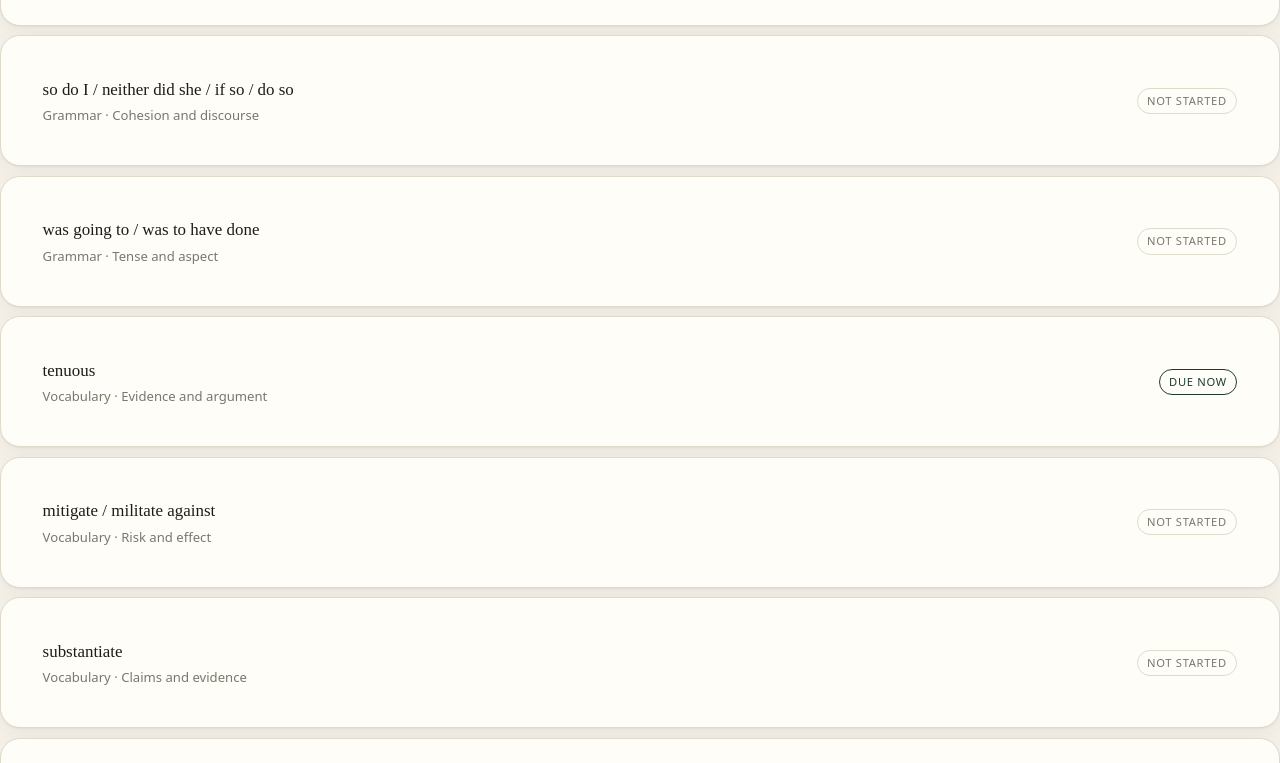
Test: LibraryScreen › hides Czech notes when the setting is off and shows review dates when practised
(page scrolled)
Click the button "tenuous Vocabulary · Evidence and argument Due now": x=69, y=370 x1=25 y1=341 x2=1255 y2=422
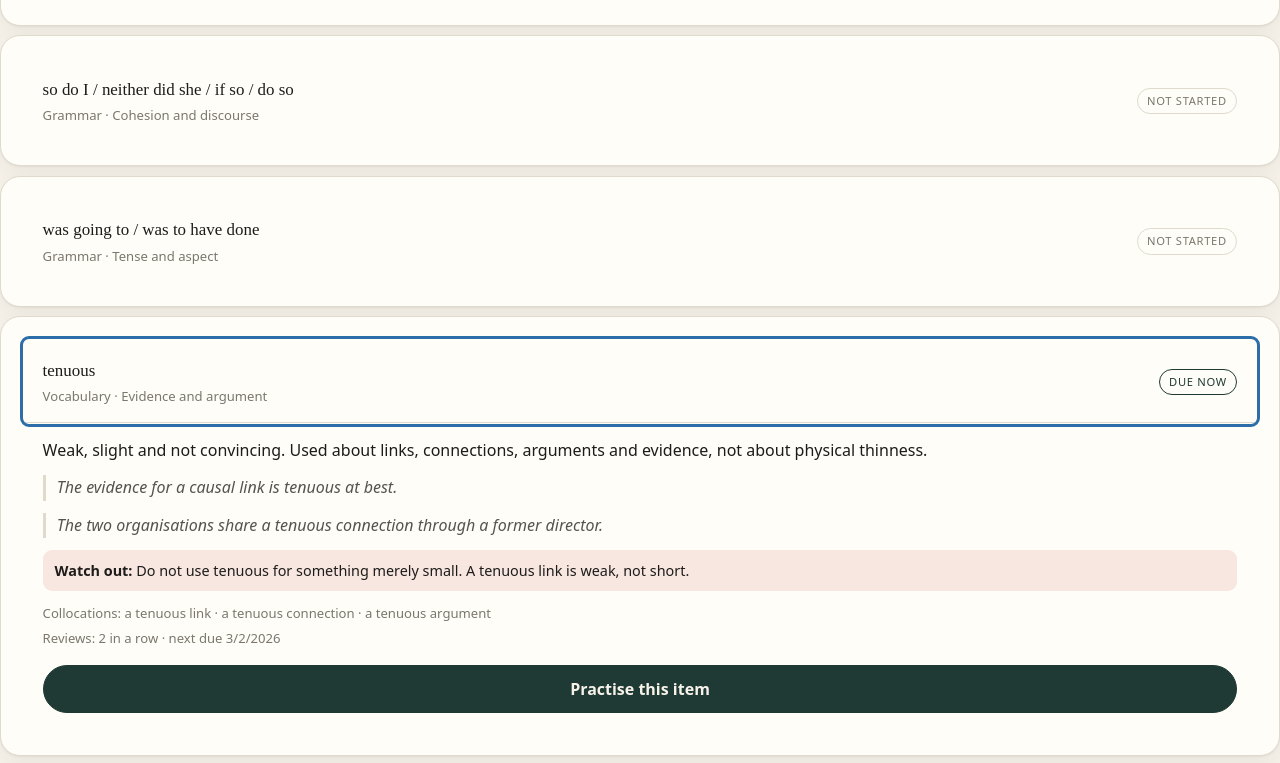
Now the text "Reviews: 2 in a row · next due 3/2/2026" is shown, box x1=43 y1=629 x2=281 y2=647
